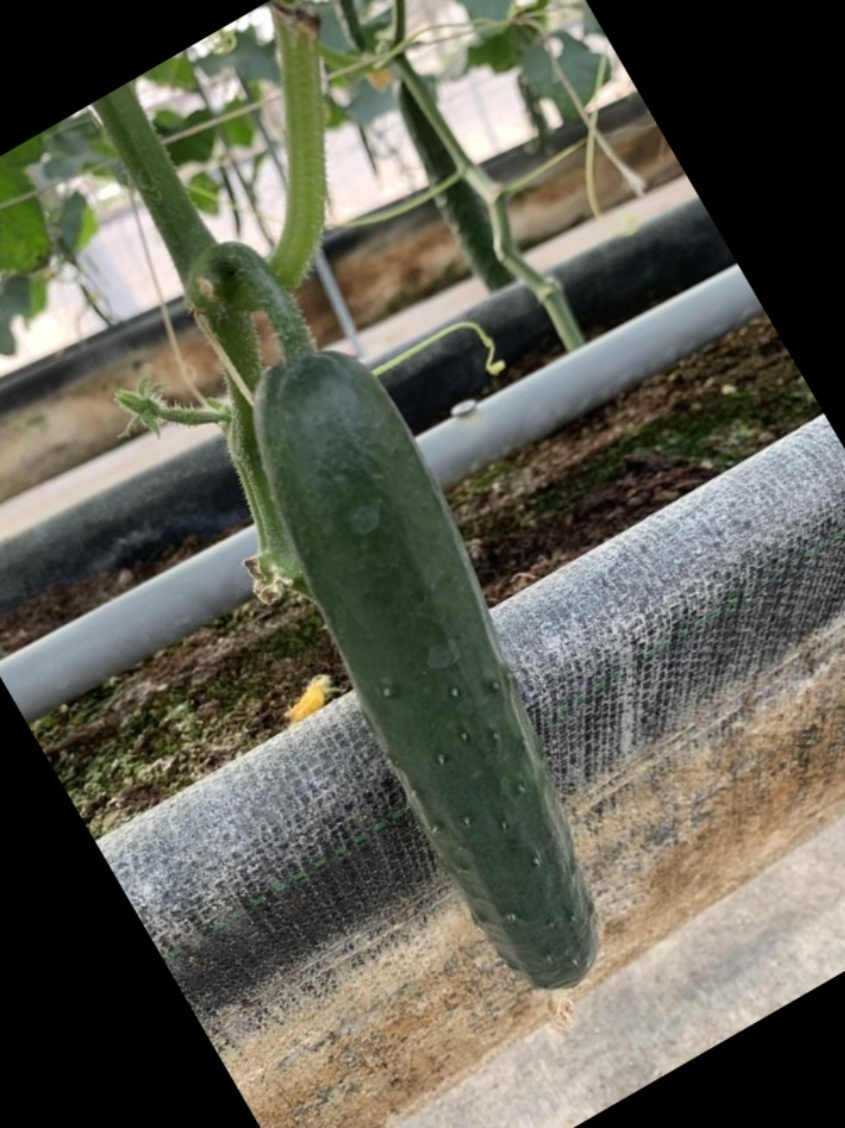mature: (247, 347, 609, 1012)
